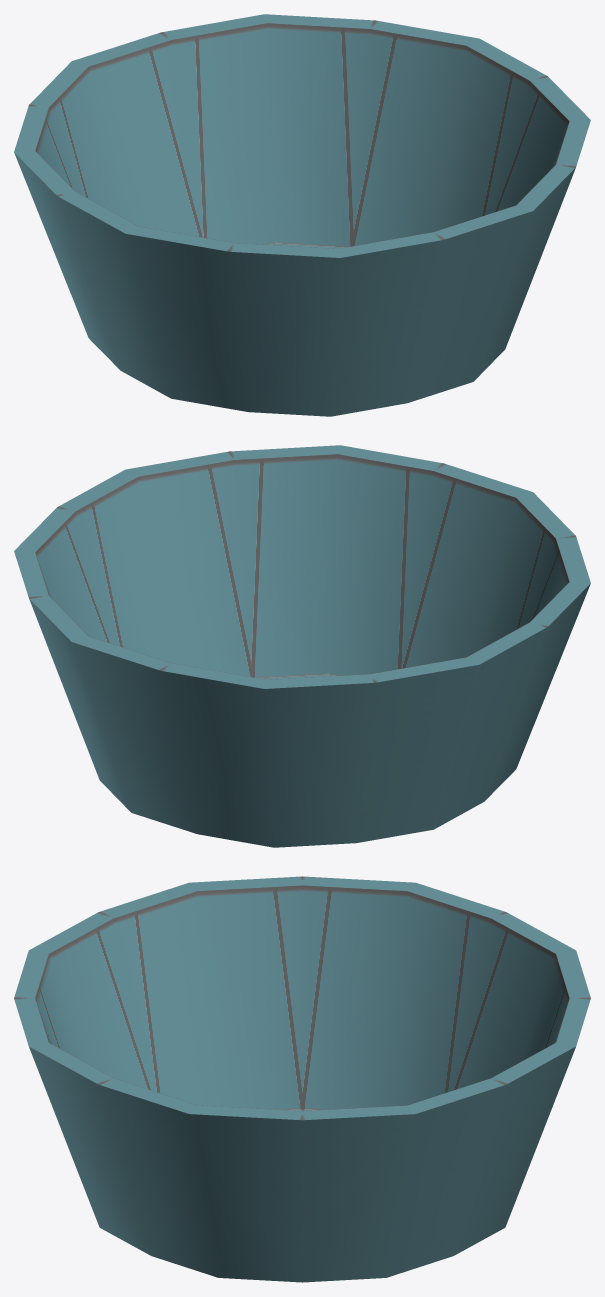
The model's file is Light_01.fbx.
3 renders of one model, top to bottom at view 1: azimuth 30°, elevation 25°; view 2: azimuth 150°, elevation 25°; view 3: azimuth 270°, elevation 25°, orthographic.
Visible parts, largest first — view 1: Corridor_Light; view 2: Corridor_Light; view 3: Corridor_Light.
Boxes of the visible parts, left/top/right/bottom form: Corridor_Light: left=14, top=14, right=590, bottom=416; Corridor_Light: left=14, top=445, right=590, bottom=847; Corridor_Light: left=14, top=876, right=590, bottom=1282.
Bounding box in the file's own units: 26.99 × 10 × 26.99.
Materials: 1 (1 with a texture image).
